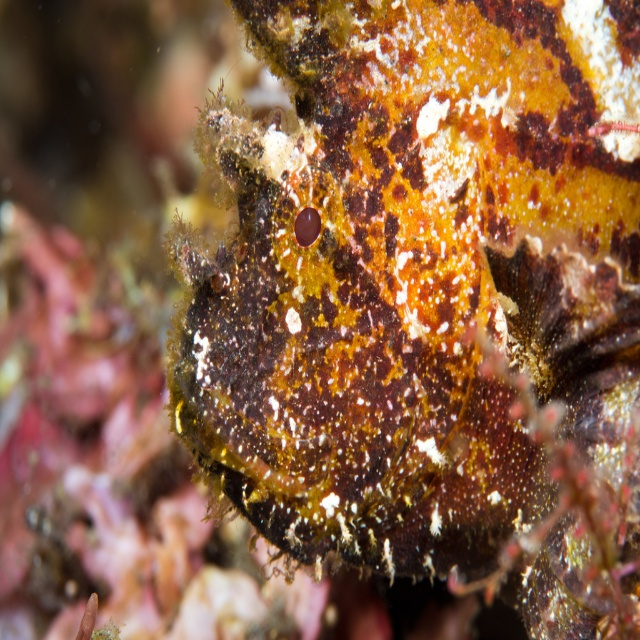Fish: (166, 0, 640, 639)
